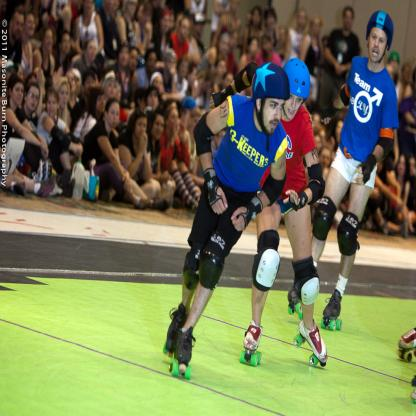Helmet: (252, 61, 289, 153), (285, 55, 311, 120), (365, 10, 394, 62)
